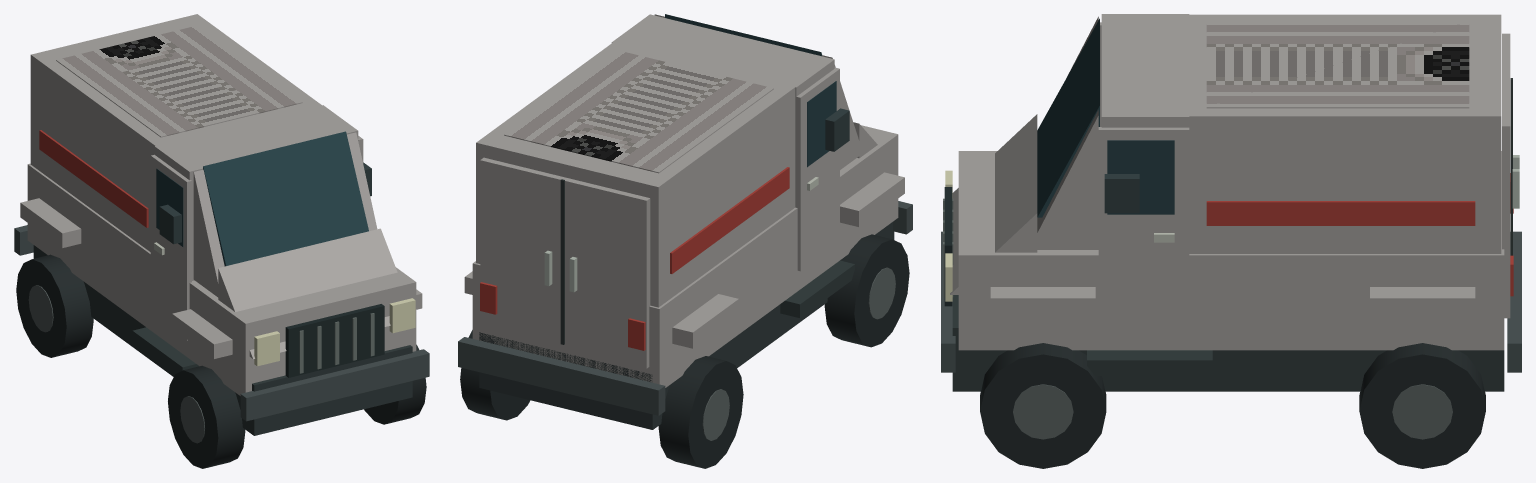
The model's file is CMU3DReduxVehiclePizzaVan.glb.
The picture shows the model from 3 angles, left to right: view 1: azimuth 30°, elevation 25°; view 2: azimuth 150°, elevation 25°; view 3: azimuth 270°, elevation 25°; orthographic projection. The views are drawn at different scales.
Parts seen in each view (by area): view 1: lower vehicle body, enclosed rear body, windshield, source roof livery, rubber road tire (×3), front hood, bumper (×2), sealed chassis, cab bulkhead, cab door skin, front grille, sloping cab frame (+7 smaller); view 2: rear double doors, enclosed rear body, lower vehicle body, source roof livery, rubber road tire (×3), cab bulkhead, bumper (×2), sealed chassis, cab door skin, wheel fender (×2), side livery stripe, recessed metal wheel hub (×2) (+7 smaller); view 3: enclosed rear body, lower vehicle body, source roof livery, rubber road tire (×2), cab door skin, sealed chassis, cab bulkhead, side livery stripe, wheel fender (×2), windshield, front hood, sloping cab frame (+7 smaller).
Part boxes in pixels (bbox=[...]): lower vehicle body: bbox=[27, 163, 416, 395]; enclosed rear body: bbox=[30, 14, 326, 251]; windshield: bbox=[203, 131, 368, 266]; source roof livery: bbox=[56, 25, 302, 137]; rubber road tire (×3): bbox=[16, 254, 426, 468]; front hood: bbox=[218, 228, 397, 358]; bumper (×2): bbox=[14, 225, 429, 421]; sealed chassis: bbox=[33, 245, 412, 435]; cab bulkhead: bbox=[154, 105, 358, 280]; cab door skin: bbox=[150, 154, 191, 340]; front grille: bbox=[285, 304, 384, 377]; sloping cab frame: bbox=[193, 132, 377, 299]; rear double doors: bbox=[480, 157, 650, 368]; enclosed rear body: bbox=[476, 43, 801, 307]; lower vehicle body: bbox=[472, 125, 898, 387]; source roof livery: bbox=[504, 50, 773, 173]; rubber road tire (×3): bbox=[460, 234, 909, 468]; cab bulkhead: bbox=[611, 14, 834, 207]; bumper (×2): bbox=[458, 201, 912, 415]; sealed chassis: bbox=[479, 222, 894, 429]; cab door skin: bbox=[796, 67, 839, 271]; wheel fender (×2): bbox=[672, 172, 904, 348]; side livery stripe: bbox=[670, 167, 789, 273]; recessed metal wheel hub (×2): bbox=[702, 267, 895, 440]; enclosed rear body: bbox=[1174, 14, 1501, 253]; lower vehicle body: bbox=[958, 151, 1504, 350]; source roof livery: bbox=[1206, 21, 1469, 108]; rubber road tire (×2): bbox=[980, 343, 1485, 468]; cab door skin: bbox=[1098, 127, 1189, 328]; sealed chassis: bbox=[952, 295, 1504, 391]; cab bulkhead: bbox=[1101, 14, 1189, 127]; side livery stripe: bbox=[1206, 201, 1475, 225]; wheel fender (×2): bbox=[990, 287, 1475, 316]; windshield: bbox=[1037, 18, 1099, 217]; front hood: bbox=[950, 114, 1037, 294]; sloping cab frame: bbox=[1031, 16, 1098, 249].
Size of the model in its own units: 1.04 by 1.3 by 1.99.
19 materials, 1 textured.
